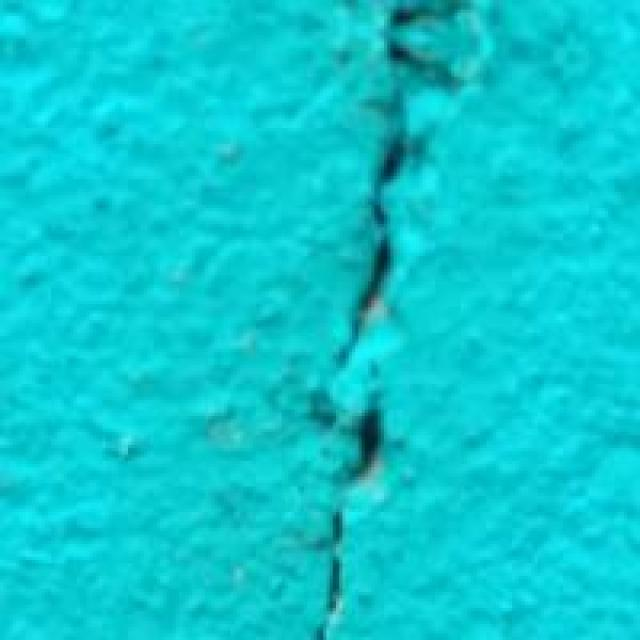crack: (272, 0, 490, 637)
